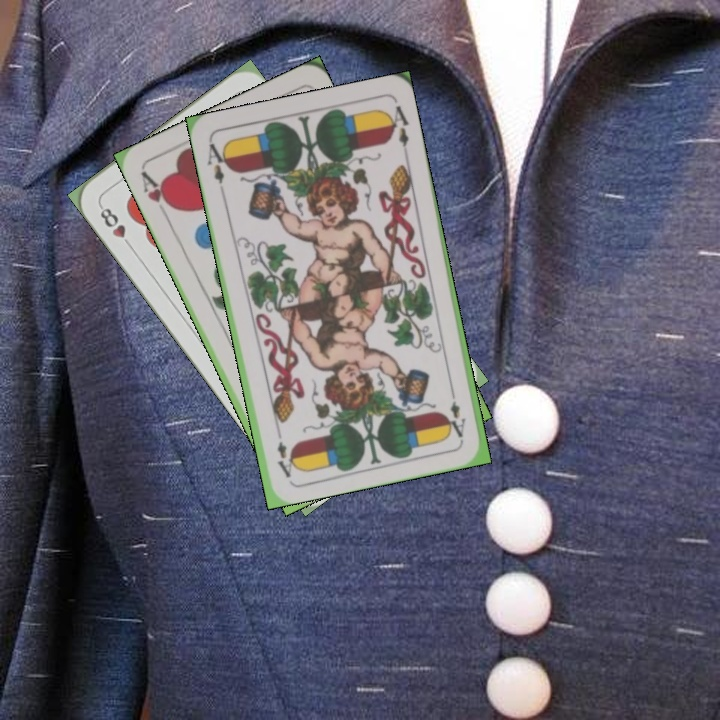EA: (203, 139, 231, 196), (446, 383, 469, 440)
H8: (95, 201, 136, 252)
HA: (137, 167, 177, 221)
